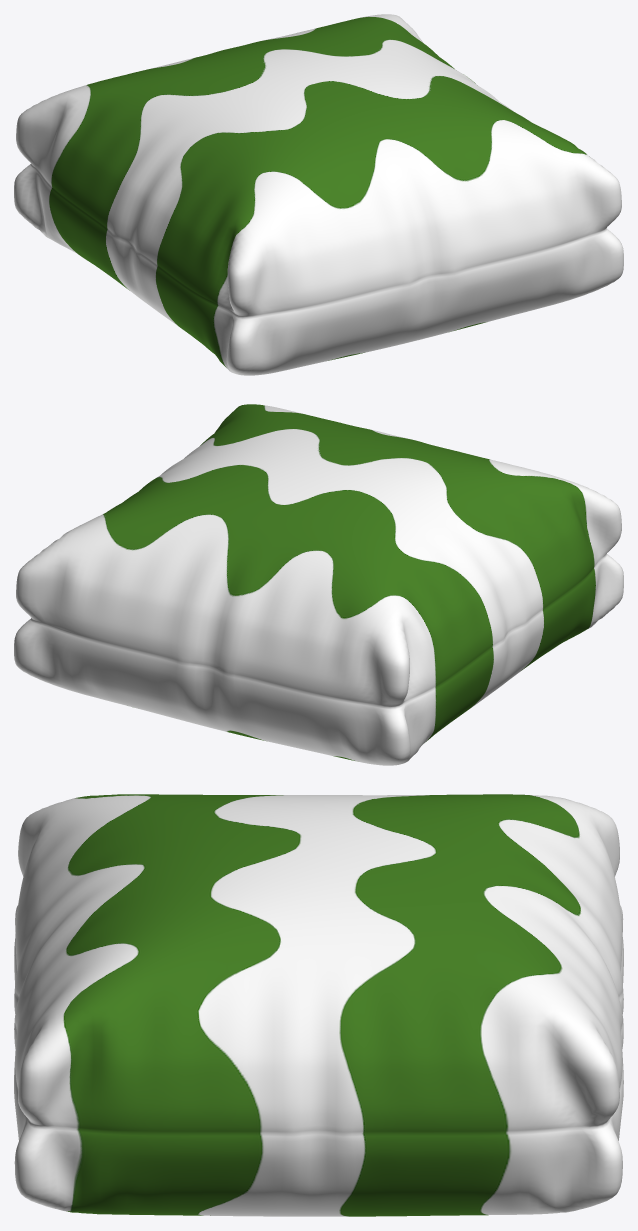
File: Pillow.gltf
The picture shows the model from 3 angles, top to bottom: view 1: azimuth 30°, elevation 25°; view 2: azimuth 150°, elevation 25°; view 3: azimuth 270°, elevation 25°; orthographic projection. The views are drawn at different scales.
Parts seen in each view (by area): view 1: applied_copy; view 2: applied_copy; view 3: applied_copy.
Boxes of the visible parts, bbox=[...] form: applied_copy: bbox=[14, 14, 623, 375]; applied_copy: bbox=[14, 404, 623, 765]; applied_copy: bbox=[14, 794, 623, 1216].
Size of the model in its own units: 1.94 by 1 by 1.95.
Materials: 1 (1 with a texture image).
